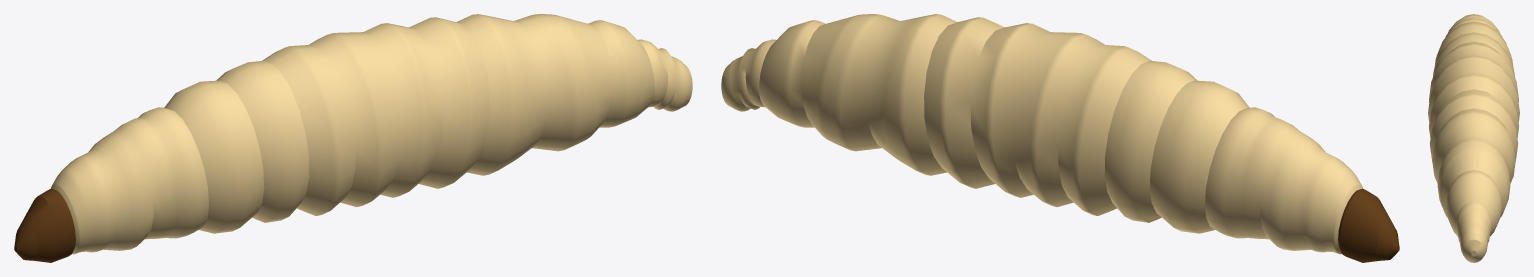
Rendered from Grub worm.fbx.
3 renders of one model, left to right at view 1: azimuth 30°, elevation 25°; view 2: azimuth 150°, elevation 25°; view 3: azimuth 270°, elevation 25°, orthographic. The views are drawn at different scales.
Visible parts, largest first — view 1: pCylinder1; view 2: pCylinder1; view 3: pCylinder1.
Boxes of the visible parts, x1,y1,x2,y2 form: pCylinder1: (14,14,692,262); pCylinder1: (721,14,1399,262); pCylinder1: (1428,14,1519,262).
Size of the model in its own units: 3.96 by 0.9467 by 0.7187.
